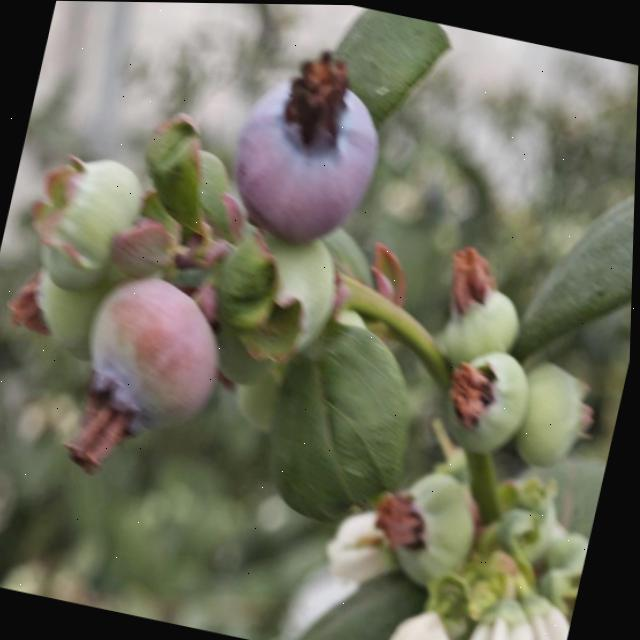Semi-RipeBlueBerry: (221, 56, 395, 254), (73, 265, 240, 450)
UnripeBlueBerry: (20, 144, 151, 299)
